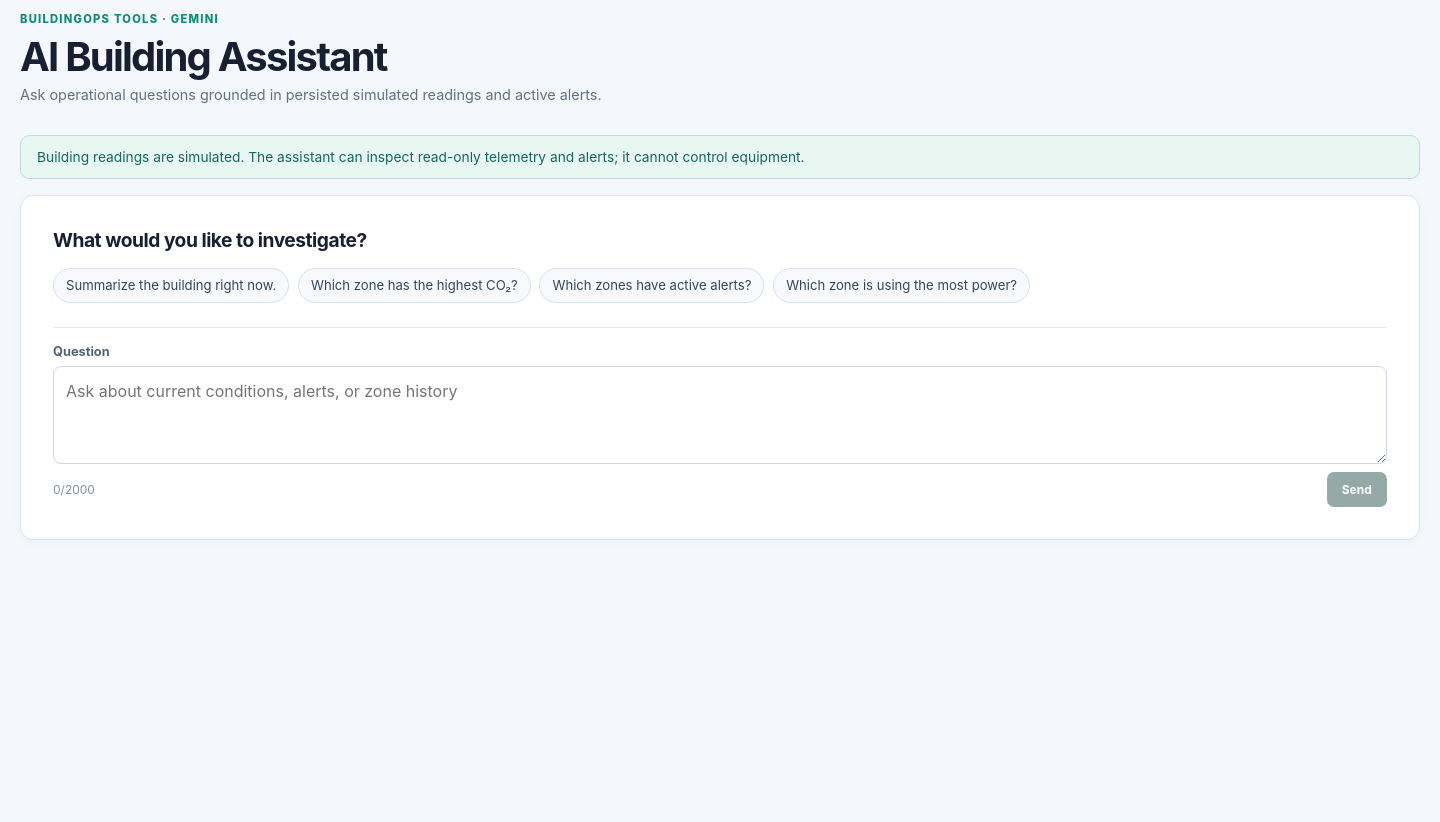
Scenario: AIAssistantPage › submits typed text and renders API failures safely
Type "Why is energy high?" into the text box labelled "Question" at [720, 415], box [53, 366, 1387, 464]
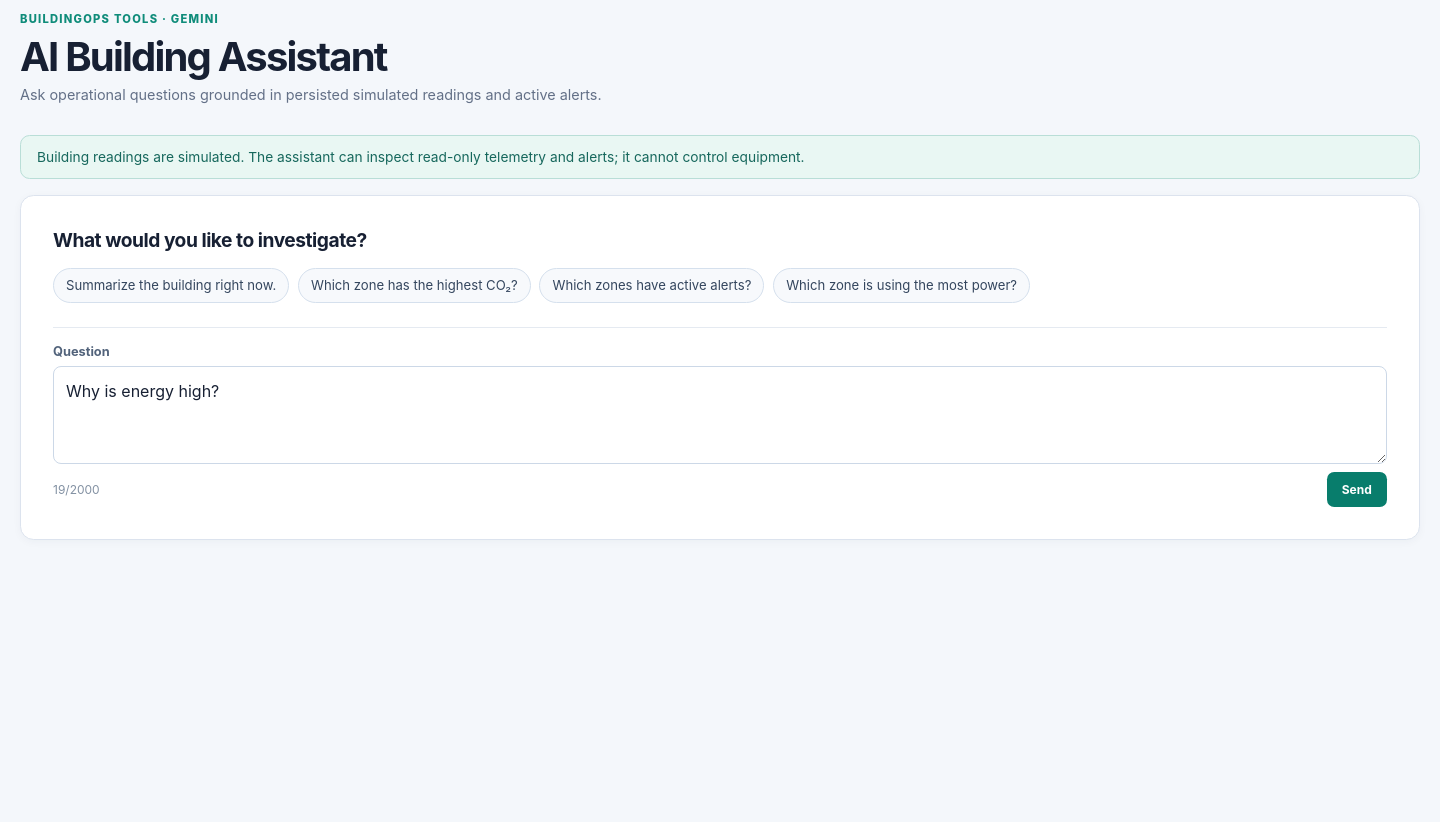
Click the button "Send" at [1357, 489], box [1327, 472, 1387, 507]
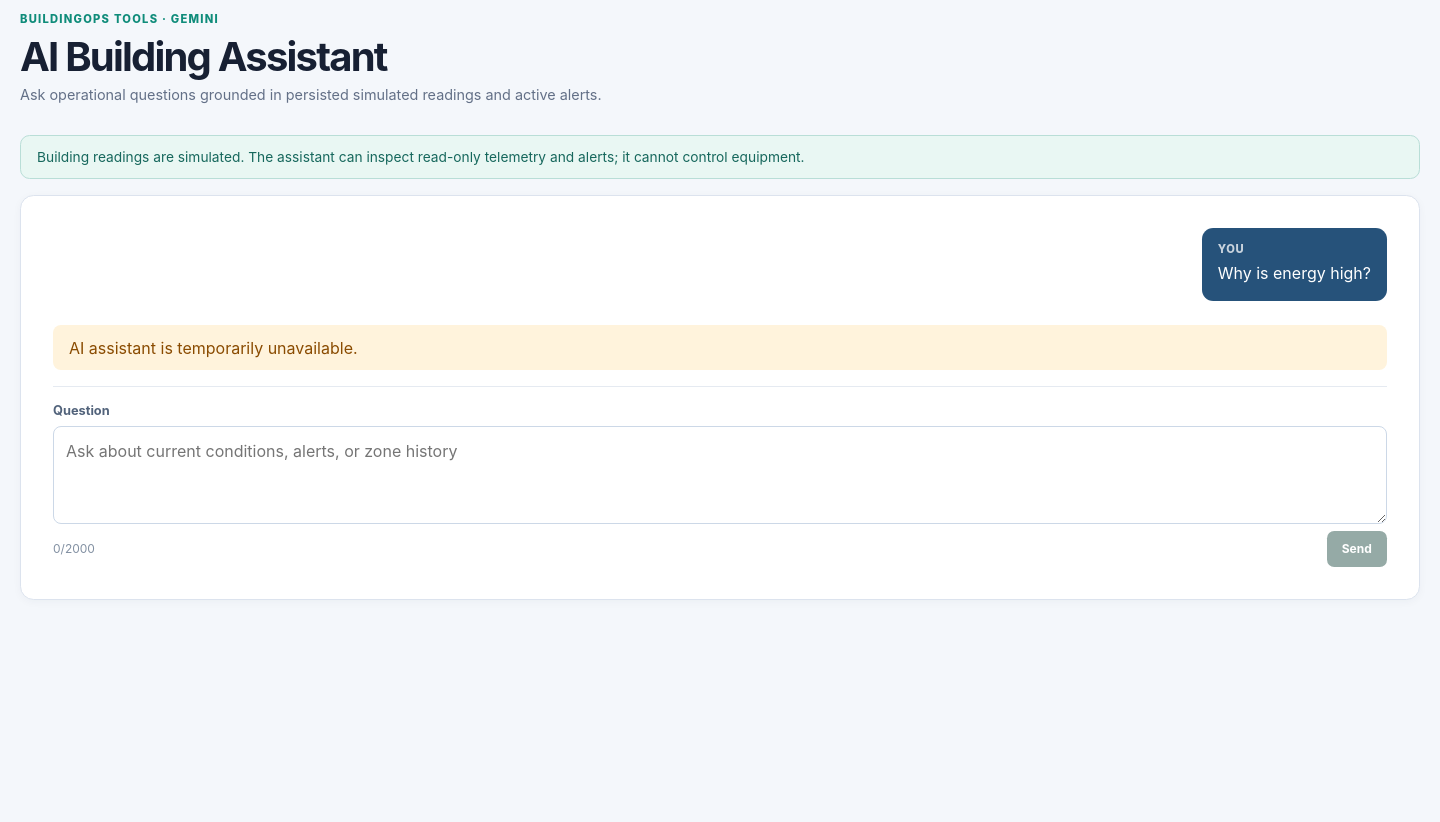
expect the text "Why is energy high?" is shown: met, box [1218, 261, 1371, 286]
expect the message reads "AI assistant is temporarily unavailable.": met, box [69, 338, 358, 358]
